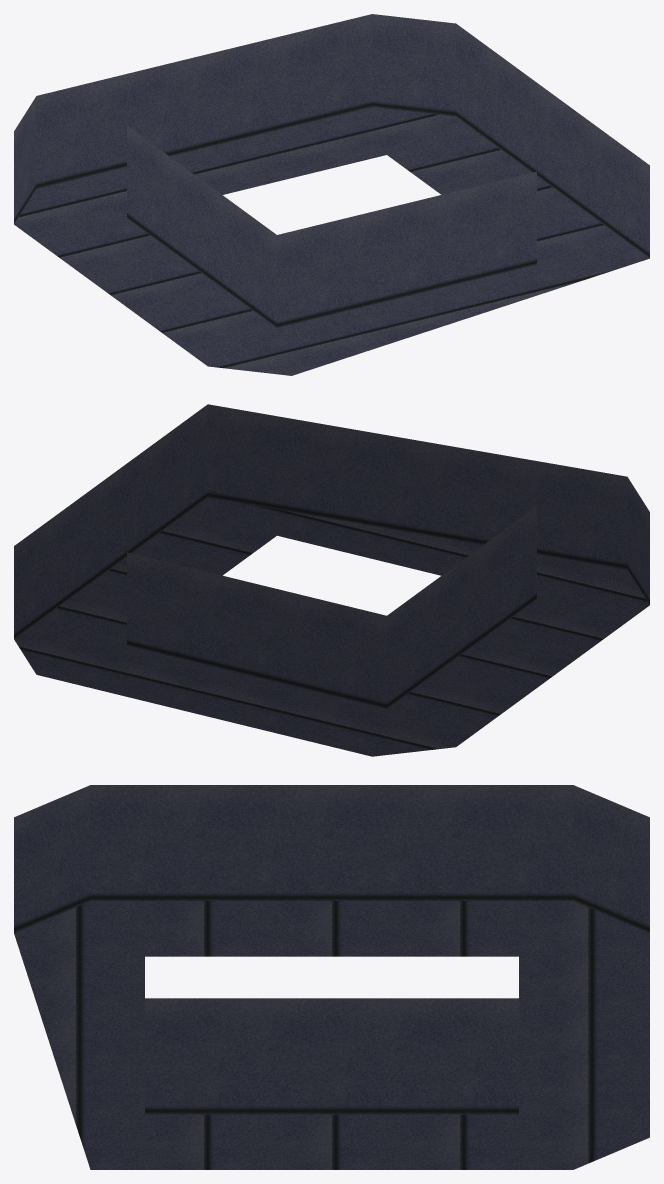
File: base_water.glb
3 views of the same model, one above another, from view 1: azimuth 30°, elevation 25°; view 2: azimuth 150°, elevation 25°; view 3: azimuth 270°, elevation 25° (orthographic). The views are drawn at different scales.
Parts seen in each view (by area): view 1: mesh0; view 2: mesh0; view 3: mesh0.
Part boxes in pixels (x1=…): mesh0: x1=14, y1=14, x2=649, y2=375; mesh0: x1=14, y1=404, x2=649, y2=756; mesh0: x1=14, y1=785, x2=649, y2=1169.
Size of the model in its own units: 36 by 7.25 by 36.
Materials: 1 (1 with a texture image).
